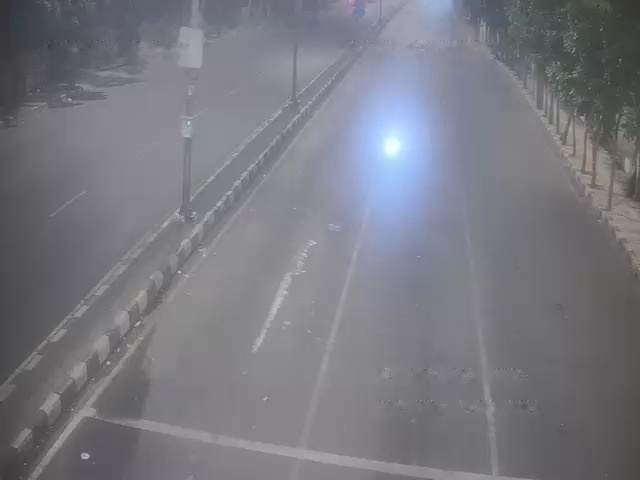Motor: (380, 132, 401, 166)
